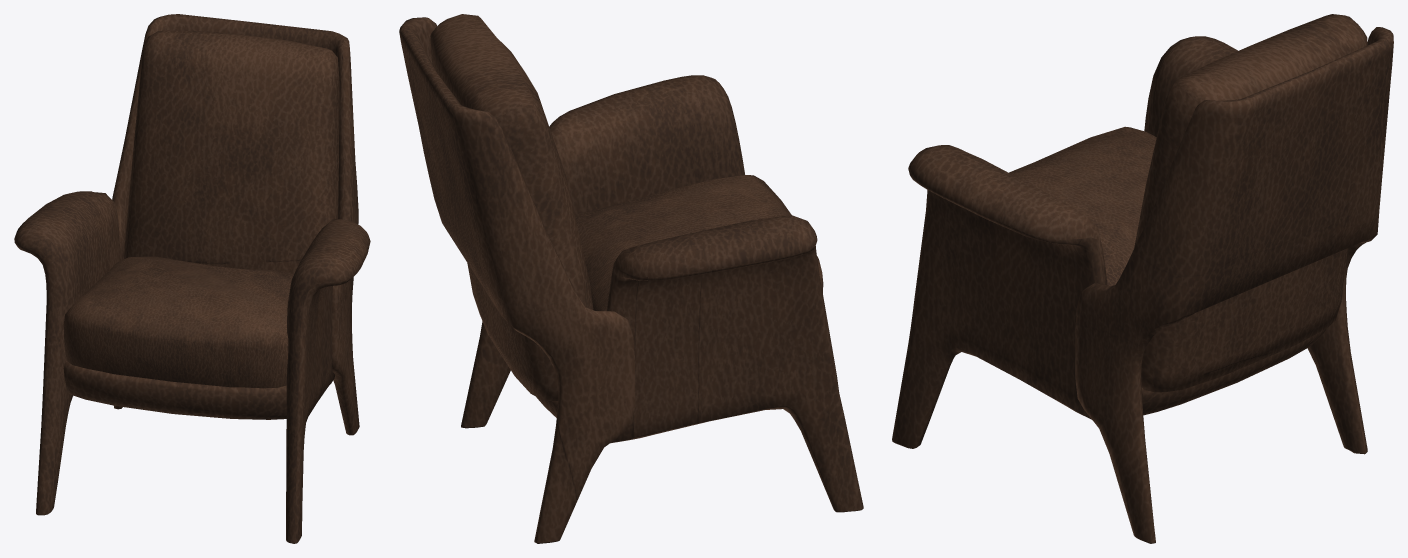
Rendered from Livingroom_SingleChair.fbx.
3 views of the same model, side by side, from view 1: azimuth 30°, elevation 25°; view 2: azimuth 150°, elevation 25°; view 3: azimuth 270°, elevation 25° (orthographic). The views are drawn at different scales.
Parts seen in each view (by area): view 1: Object007; view 2: Object007; view 3: Object007.
Boxes of the visible parts, x1=… form: Object007: x1=14, y1=14, x2=370, y2=543; Object007: x1=399, y1=14, x2=863, y2=543; Object007: x1=892, y1=14, x2=1393, y2=543.
Bounding box in the file's own units: 98.34 × 98.65 × 98.78.
1 material, 1 textured.
